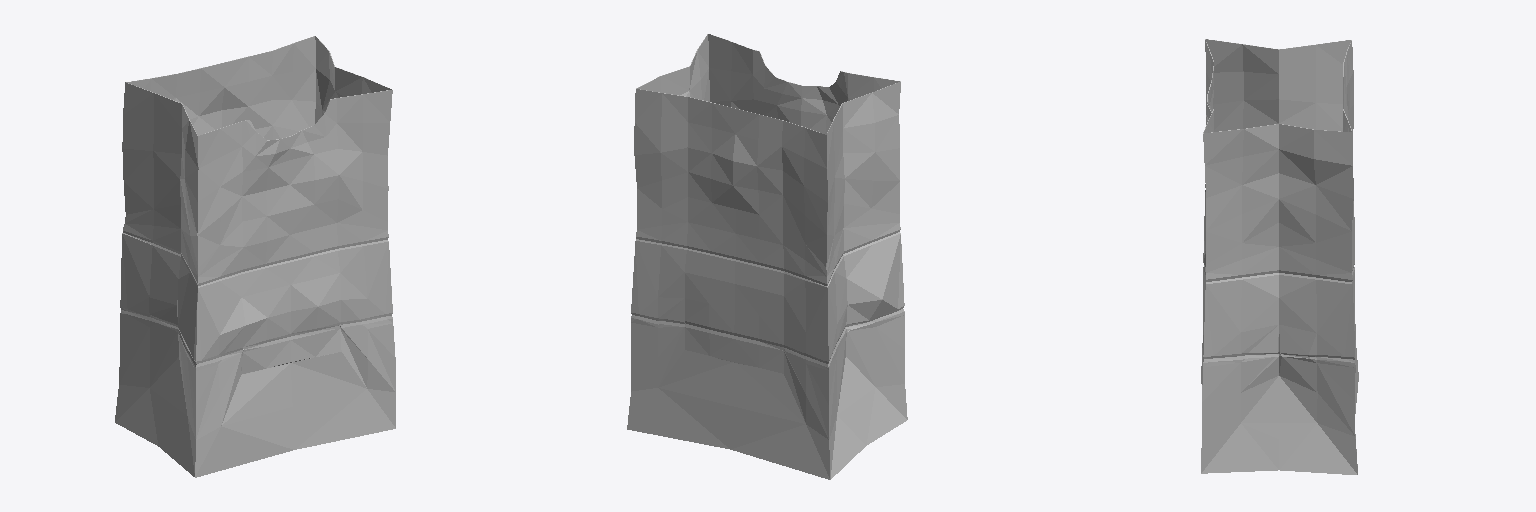
The model's file is Paper Bag.obj.
3 views of the same model, side by side, from view 1: azimuth 30°, elevation 25°; view 2: azimuth 150°, elevation 25°; view 3: azimuth 270°, elevation 25° (orthographic).
Visible parts, largest first — view 1: Paper_Bag; view 2: Paper_Bag; view 3: Paper_Bag.
Boxes of the visible parts, box(x1,y1,x2,y2) form: Paper_Bag: box(115, 36, 395, 477); Paper_Bag: box(627, 34, 907, 479); Paper_Bag: box(1201, 39, 1358, 474).
Size of the model in its own units: 15.08 by 24.11 by 10.11.